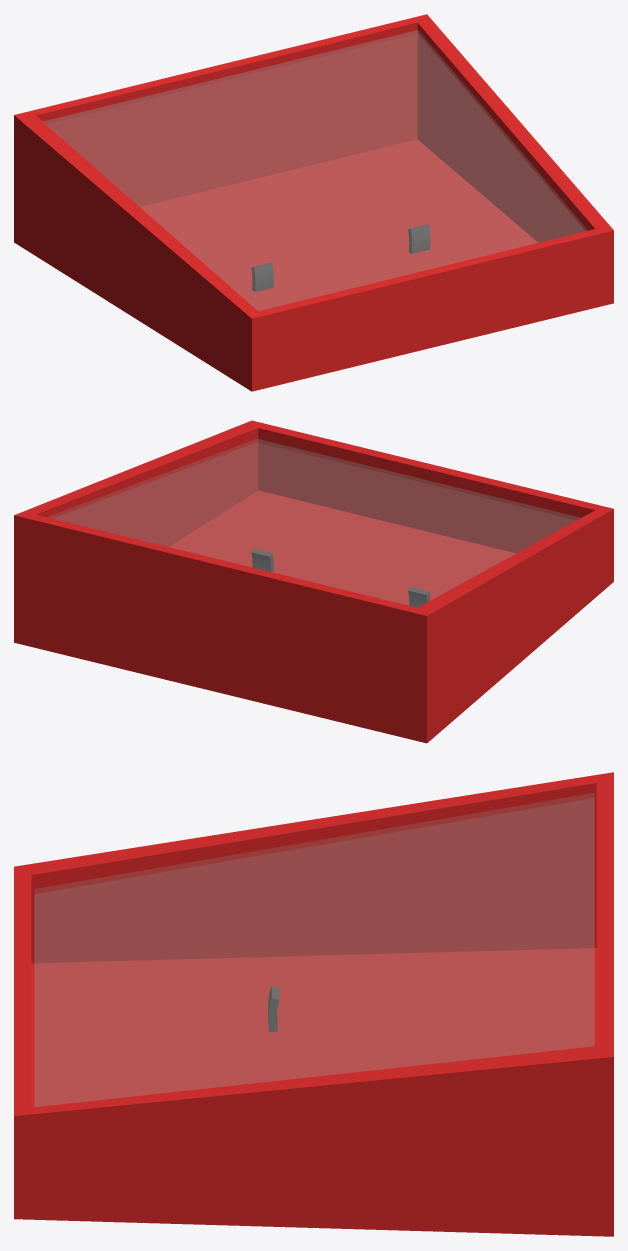
Rendered from replacementcase_high.fbx.
3 views of the same model, one above another, from view 1: azimuth 30°, elevation 25°; view 2: azimuth 150°, elevation 25°; view 3: azimuth 270°, elevation 25° (orthographic). The views are drawn at different scales.
Parts seen in each view (by area): view 1: ReplacementCase_opt:ReplacementCase; view 2: ReplacementCase_opt:ReplacementCase; view 3: ReplacementCase_opt:ReplacementCase.
Boxes of the visible parts, x1,y1,x2,y2 form: ReplacementCase_opt:ReplacementCase: [14, 14, 613, 391]; ReplacementCase_opt:ReplacementCase: [14, 420, 613, 743]; ReplacementCase_opt:ReplacementCase: [14, 772, 613, 1236].
Bounding box in the file's own units: 73.83 × 21.76 × 65.77.
